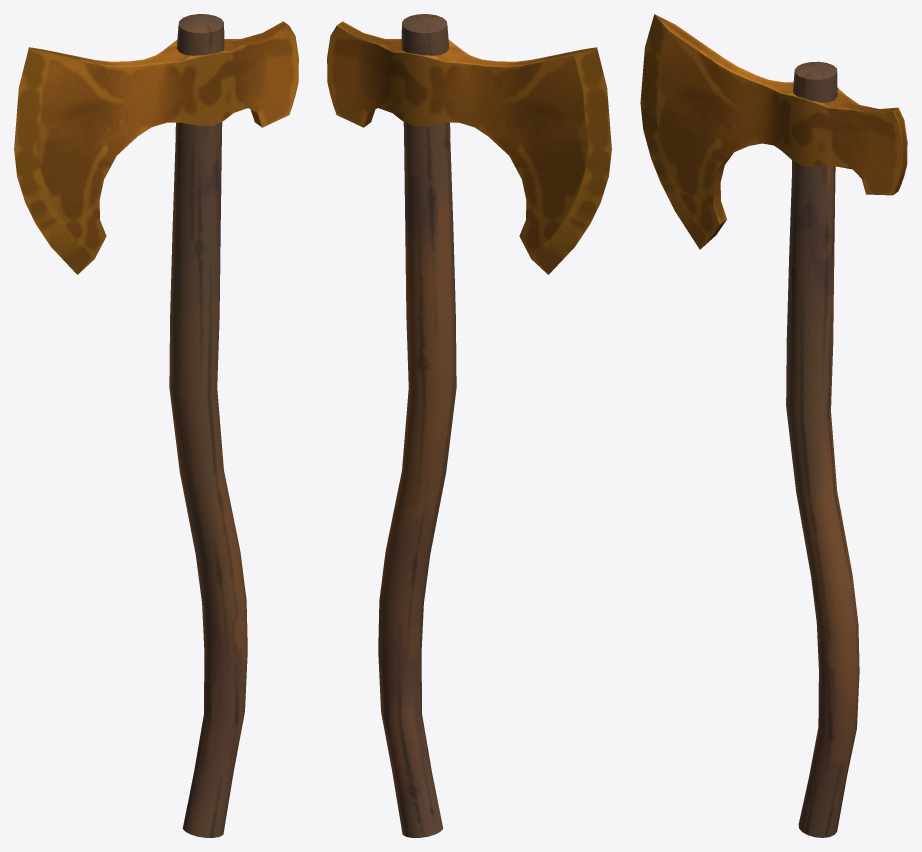
The model's file is quaternius-fantasy-props-megakit--axe_bronze.glb.
3 renders of one model, left to right at view 1: azimuth 30°, elevation 25°; view 2: azimuth 150°, elevation 25°; view 3: azimuth 330°, elevation 25°, orthographic. The views are drawn at different scales.
Parts seen in each view (by area): view 1: Axe_Bronze; view 2: Axe_Bronze; view 3: Axe_Bronze.
Part boxes in pixels (left/top/right/bottom): Axe_Bronze: left=14, top=14, right=298, bottom=837; Axe_Bronze: left=327, top=14, right=611, bottom=837; Axe_Bronze: left=640, top=14, right=907, bottom=837.
Size of the model in its own units: 0.2945 by 0.8269 by 0.046.
1 material, 1 textured.
